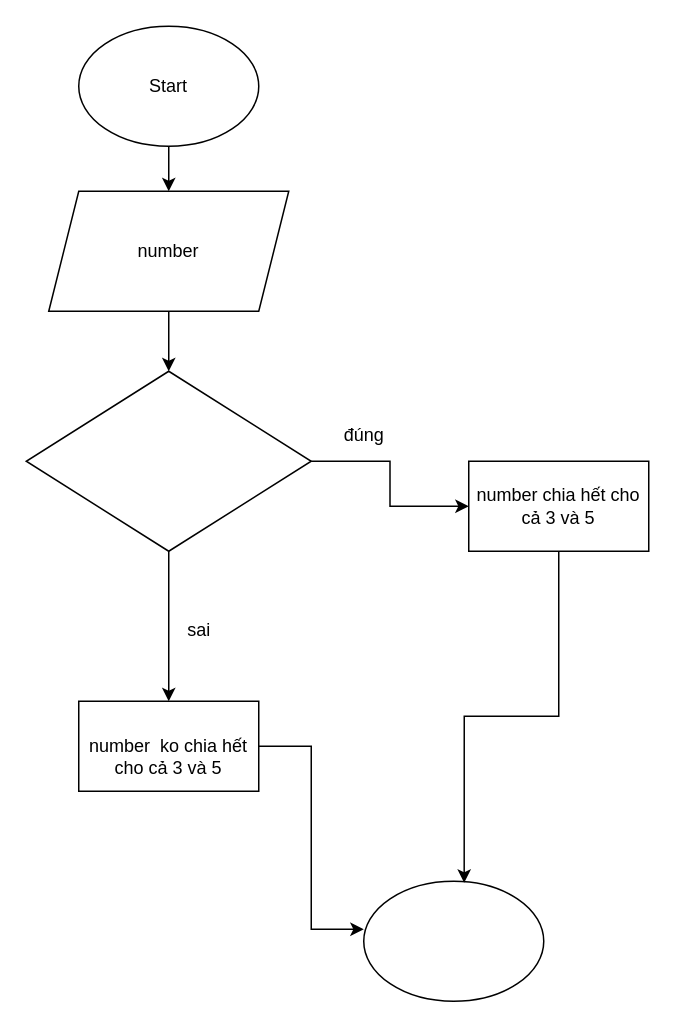
This 675x1028 diagram has some shape labels left out. The centre of each missing label's shape, as x and y in pixels:
"end" goes at (x=453, y=940).
"number%3==0 ? number%5==0 ?" goes at (x=168, y=460).
